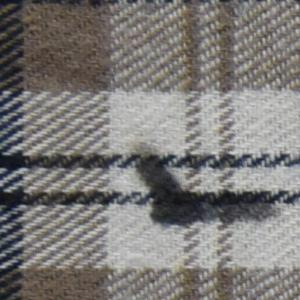Stain: (129, 142, 286, 236)
